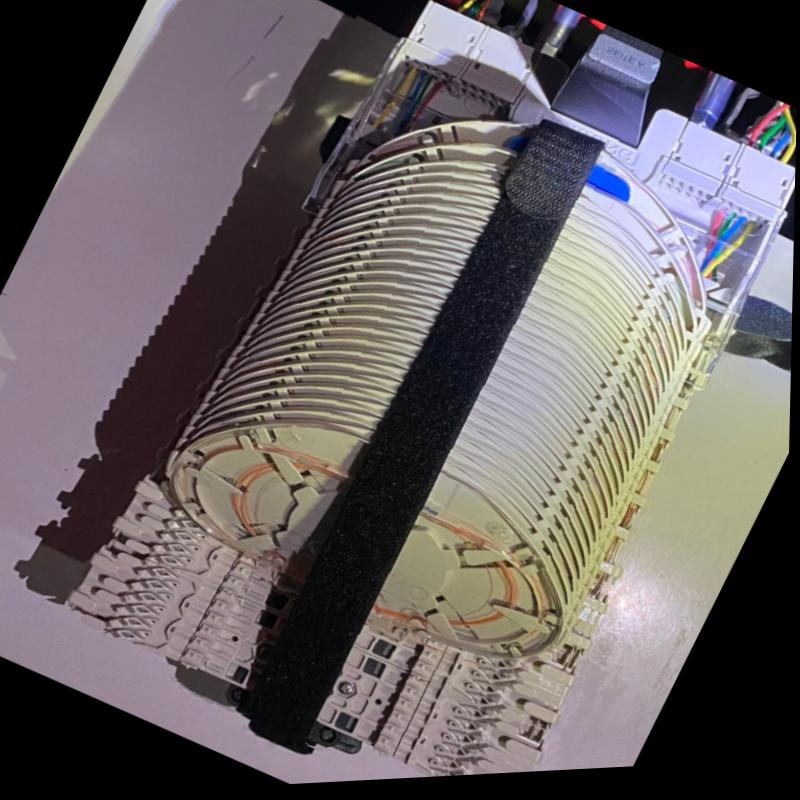NT-Muffen: (49, 0, 800, 797)
